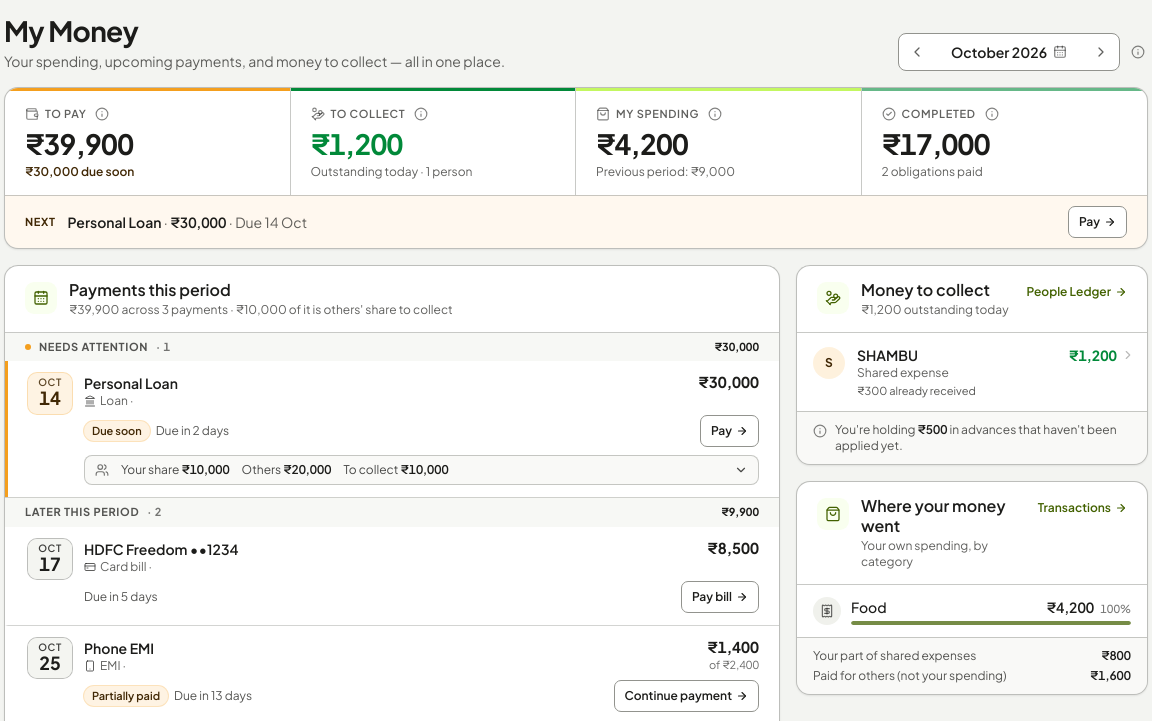
Test: MyMoneyWorkspace › keeps my share apart from what the lender is owed, with each person's state on demand
This screenshot has width=1152, height=721.
Expected: the text "BIJU" is not shown
Click the button "Your share ₹10,000 Others ₹20,000 To collect ₹10,000" at (422, 470), box [85, 456, 758, 484]
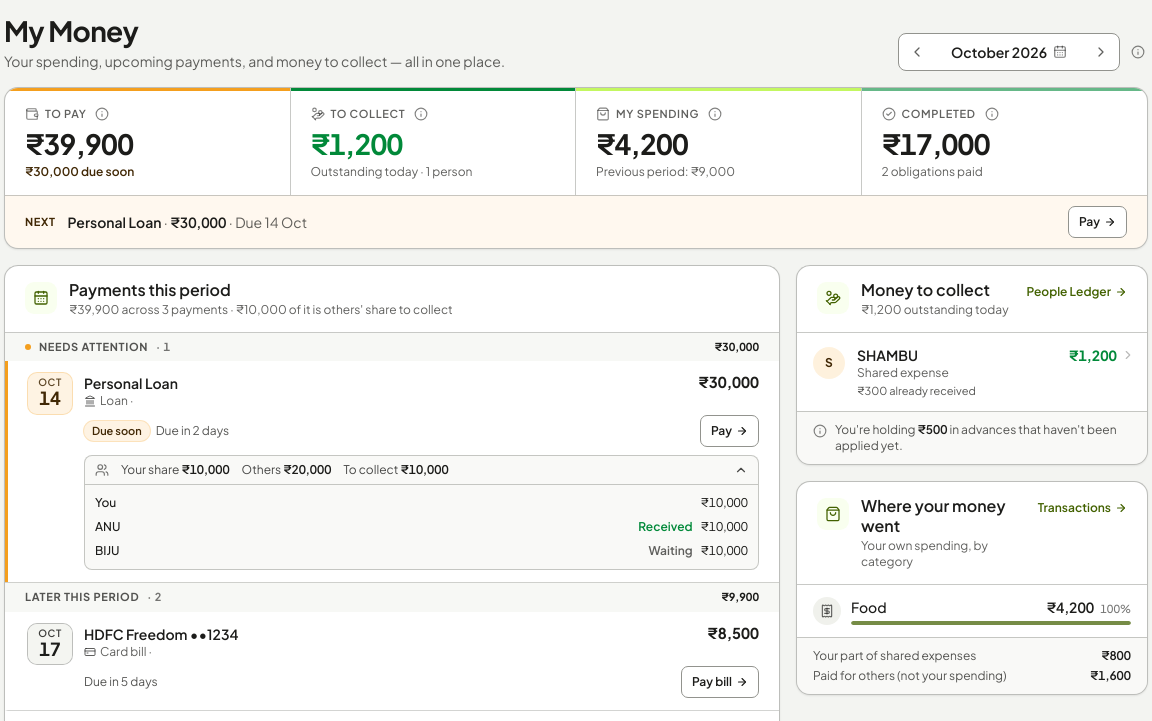
Expected: the text "BIJU" is shown, [95, 543, 120, 559]
Expected: the text "Received" is shown, [638, 519, 693, 535]
Expected: the text "Waiting" is shown, [648, 543, 693, 559]
